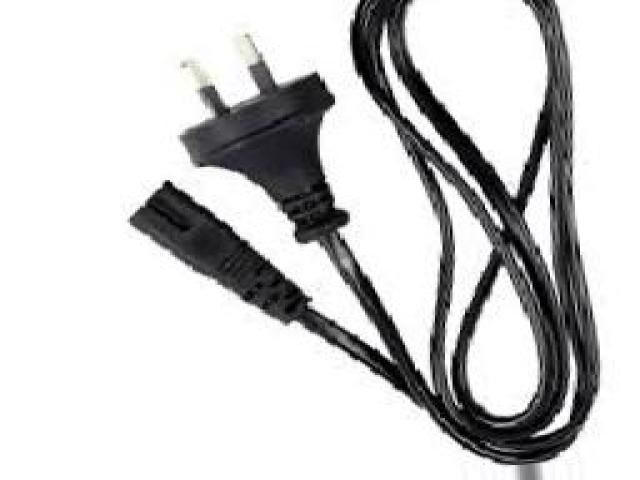wire: (130, 0, 599, 464)
